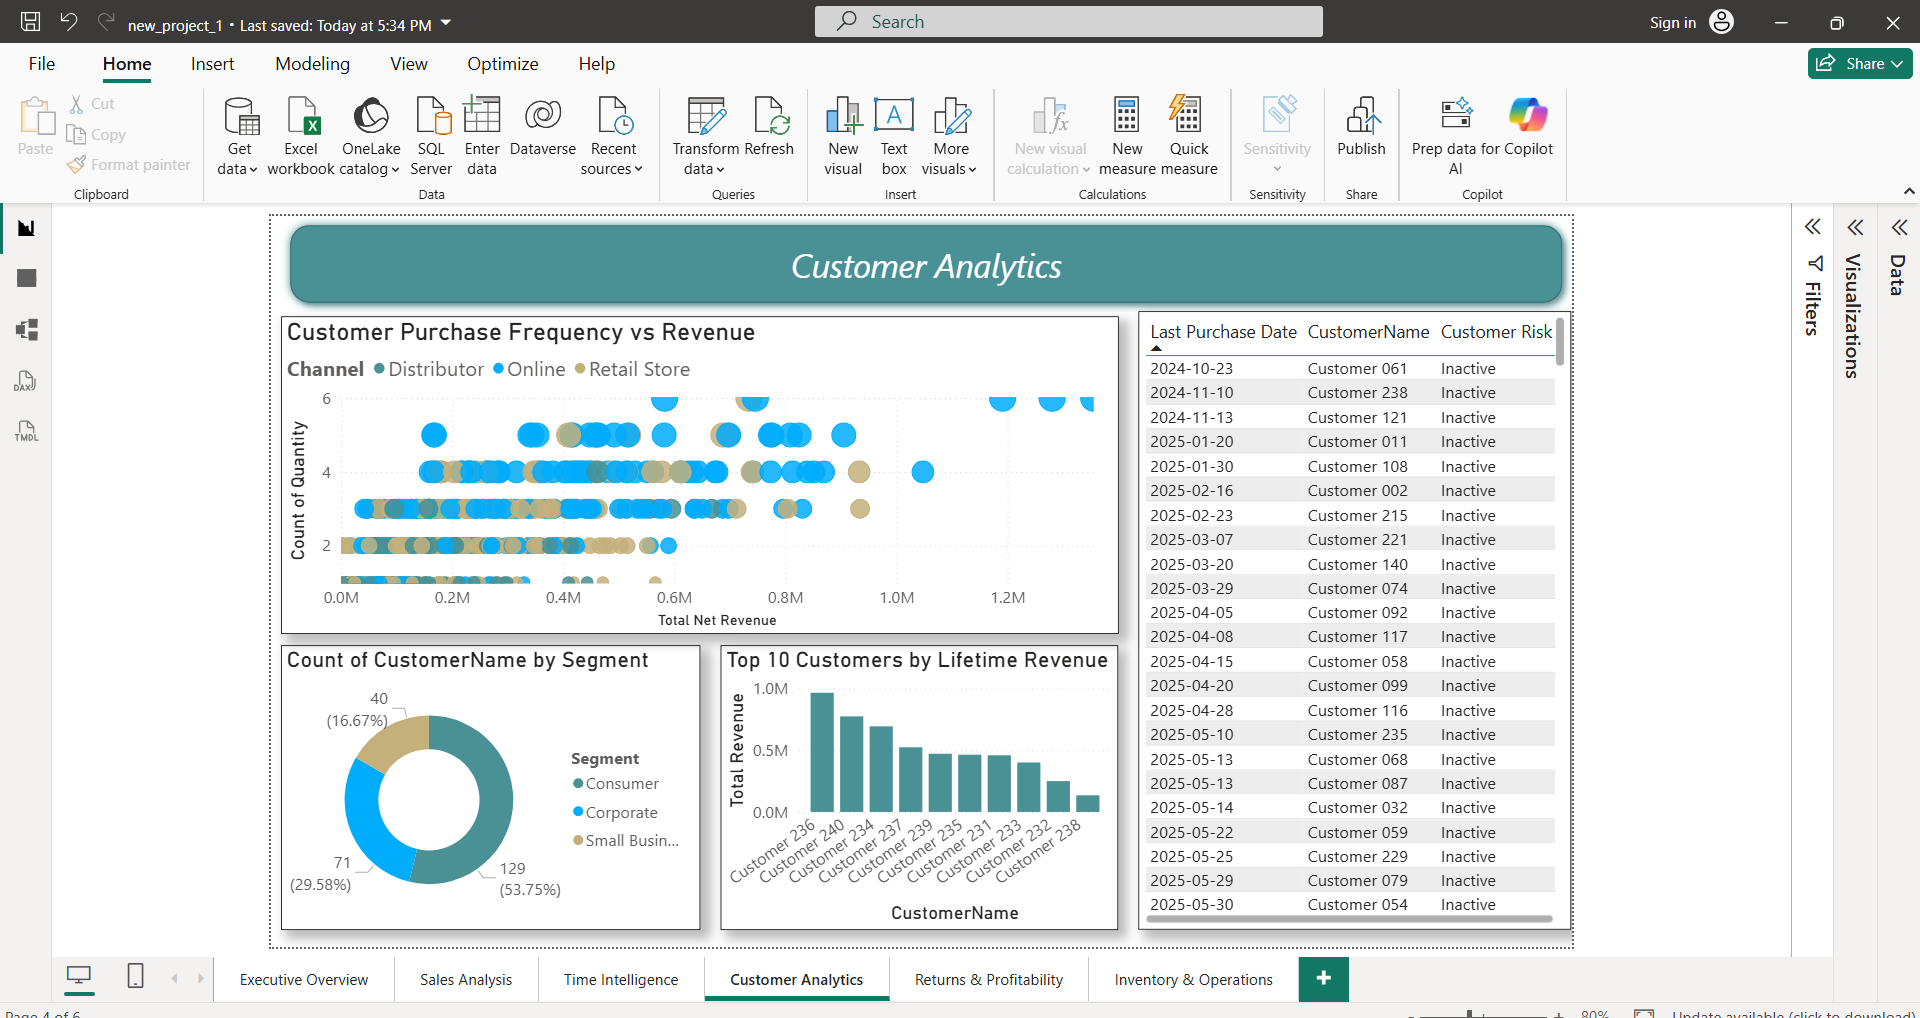

What the dashboard file says about the page in this screenshot:
{"tool":"powerbi","page":{"name":"Customer Analytics","canvas":[1280,720],"ordinal":3},"visuals":[{"type":"shape","box":[10,0,1270,94.3],"z":0},{"type":"clusteredColumnChart","title":"Top 10 Customers by Lifetime Revenue","fields":{"Category":["Customers.CustomerName"],"Y":["Orders_Raw.Total Net Revenue"]},"box":[442.9,422.9,391.4,280],"z":1000},{"type":"donutChart","fields":{"Y":["CountNonNull(Customers.CustomerName)"],"Category":["Customers.Segment"]},"box":[10,422.9,412.9,280],"z":2000},{"type":"scatterChart","title":"Customer Purchase Frequency vs Revenue","fields":{"X":["Orders_Raw.Total Net Revenue"],"Size":["Count(Orders_Raw.Quantity)"],"Y":["Count(Orders_Raw.Quantity)"],"Category":["Customers.CustomerName"],"Series":["Orders_Raw.Channel"]},"box":[10,98.6,824.3,312.9],"z":3000},{"type":"tableEx","fields":{"Values":["Orders_Raw.Last Purchase Date","Customers.CustomerName","Orders_Raw.Customer Risk"]},"box":[854.3,94.3,425.7,608.6],"z":4000}]}

Visuals, with their boxes on the page's 1280x720 design canvas (x1, y1, x2, y2). These are canvas units, not pixel positions in the 1920x1018 screenshot, which may show the page scaled, cropped or inside an application window:
shape: 10, 0, 1280, 94
"Top 10 Customers by Lifetime Revenue" clusteredColumnChart: 443, 423, 834, 703
donutChart - CountNonNull(Customers.CustomerName) x Customers.Segment: 10, 423, 423, 703
"Customer Purchase Frequency vs Revenue" scatterChart: 10, 99, 834, 412
tableEx - Orders_Raw.Last Purchase Date x Customers.CustomerName: 854, 94, 1280, 703
